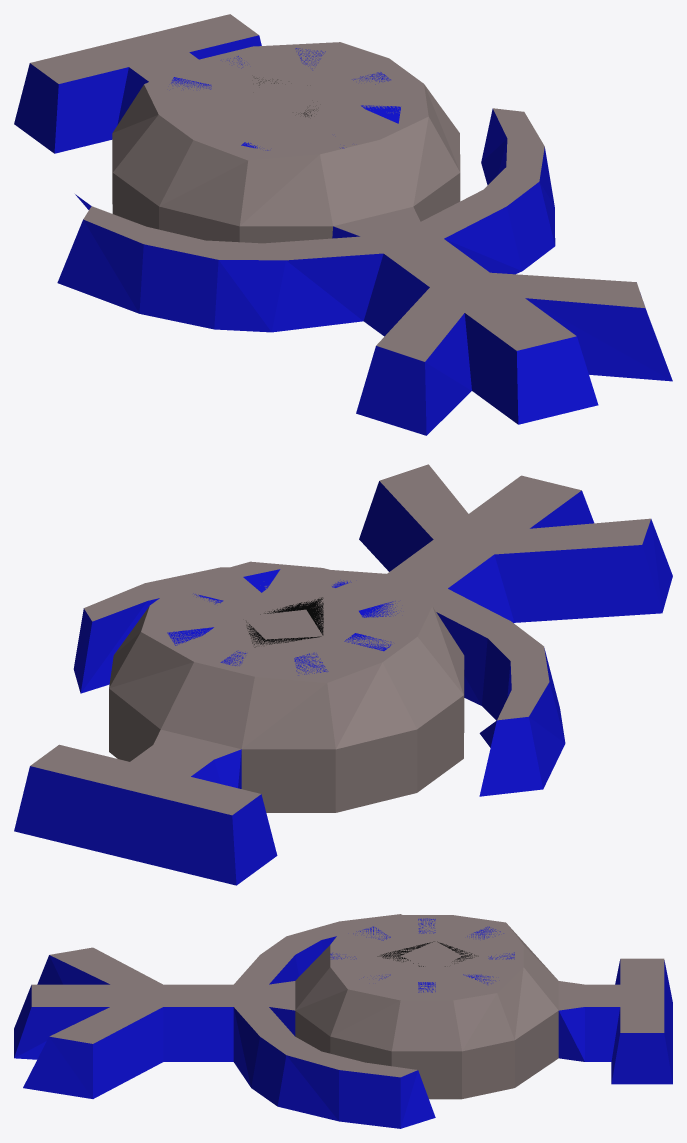
3 views of the same model, one above another, from view 1: azimuth 30°, elevation 25°; view 2: azimuth 150°, elevation 25°; view 3: azimuth 270°, elevation 25° (orthographic). The views are drawn at different scales.
Visible parts, largest first — view 1: 2785; view 2: 2785; view 3: 2785.
Boxes of the visible parts, x1=… form: 2785: x1=14, y1=14, x2=672, y2=435; 2785: x1=14, y1=464, x2=672, y2=885; 2785: x1=14, y1=914, x2=672, y2=1128.
Bounding box in the file's own units: 47 × 11 × 75.
